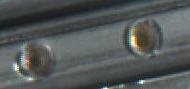joints: (13, 40, 59, 80), (122, 16, 163, 59)
